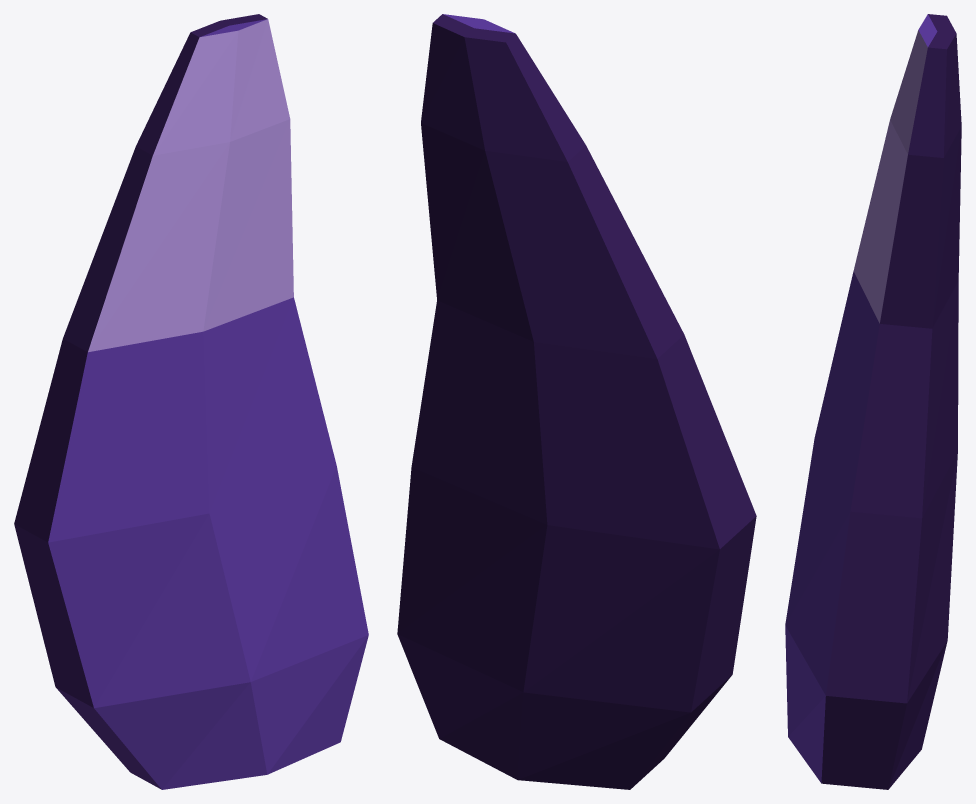
File: void_shard.gltf
3 views of the same model, side by side, from view 1: azimuth 30°, elevation 25°; view 2: azimuth 150°, elevation 25°; view 3: azimuth 270°, elevation 25° (orthographic). The views are drawn at different scales.
Parts seen in each view (by area): view 1: void_shard; view 2: void_shard; view 3: void_shard.
Part boxes in pixels (<box>): void_shard: <box>14,14,368,789</box>; void_shard: <box>397,14,756,789</box>; void_shard: <box>785,14,961,789</box>.
Bounding box in the file's own units: 0.1013 × 0.2199 × 0.0478.
